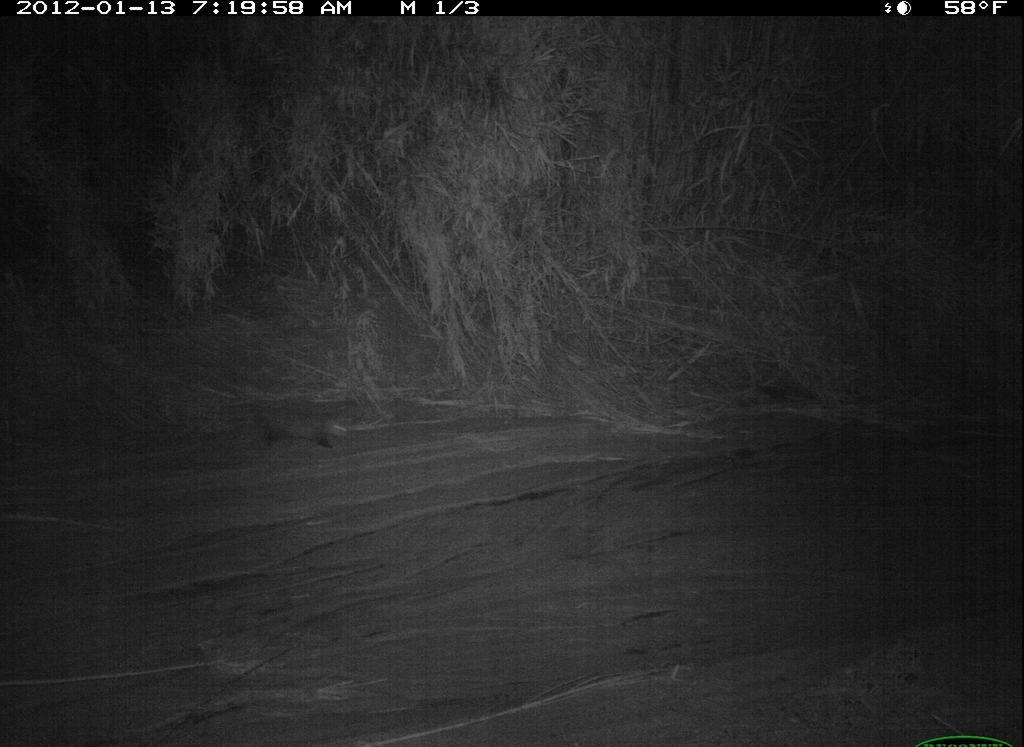opossum: (231, 391, 363, 468)
